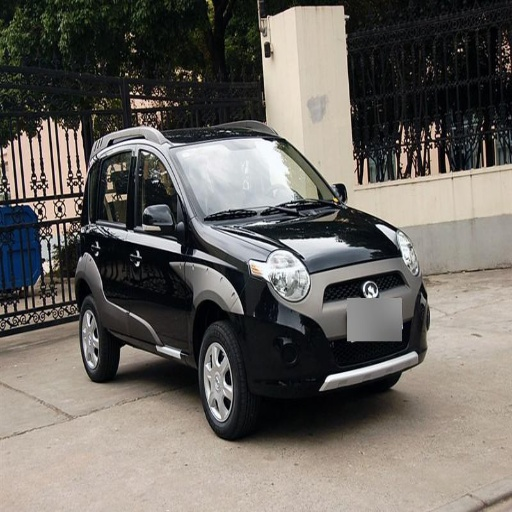front_bumper: (246, 255, 418, 398)
front_right_door: (126, 139, 189, 347)
front_right_light: (251, 251, 310, 302)
